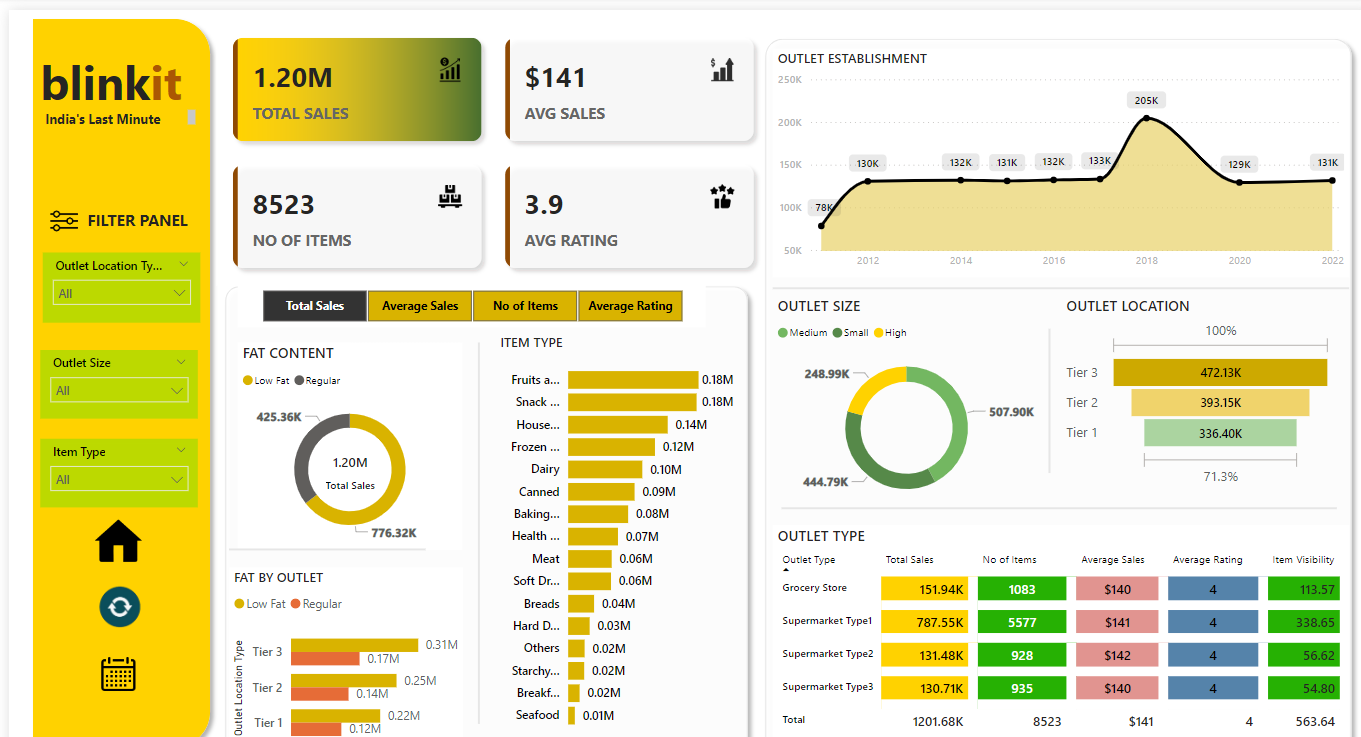

Layout of this report page (visuals, bound fields, positions):
{"tool":"powerbi","page":{"name":"Page 1","canvas":[1400,800],"ordinal":0},"visuals":[{"type":"shape","box":[15,0,200,765],"z":0},{"type":"textbox","box":[26.8,36.3,198.8,77.3],"z":1000},{"type":"textbox","box":[31.6,97.8,164.1,30],"z":2000},{"type":"cardVisual","fields":{"Data":["BlinkIT Grocery Data.Total Sales","BlinkIT Grocery Data.Average Sales","BlinkIT Grocery Data.No of Items","BlinkIT Grocery Data.Average Rating"]},"box":[213,11,569.7,271.4],"z":3000},{"type":"shape","box":[213,274.6,553.9,500.2],"z":4000},{"type":"donutChart","title":"FAT CONTENT","fields":{"Y":["BlinkIT Grocery Data.Total Sales"],"Category":["BlinkIT Grocery Data.Item Fat Content"]},"box":[235.1,340.9,230.4,213],"z":5000},{"type":"slicer","fields":{"Values":["Metrics.Metrics"]},"box":[235.1,280.9,479.7,45],"z":6000},{"type":"cardVisual","fields":{"Data":["BlinkIT Grocery Data.Total Sales"]},"box":[273,422.9,154.6,102.6],"z":7000},{"type":"clusteredBarChart","title":"FAT BY OUTLET","fields":{"Y":["BlinkIT Grocery Data.Total Sales"],"Category":["BlinkIT Grocery Data.Outlet Location Type"],"Series":["BlinkIT Grocery Data.Item Fat Content"]},"box":[225.7,571.2,239.9,194.1],"z":8000},{"type":"shape","box":[225.7,536.5,202,34.7],"z":9000},{"type":"shape","box":[465.5,340.9,33.1,391.3],"z":10000},{"type":"barChart","title":"ITEM TYPE","fields":{"Y":["BlinkIT Grocery Data.Total Sales"],"Category":["BlinkIT Grocery Data.Item Type"]},"box":[498.7,331.4,249.3,416.6],"z":11000},{"type":"shape","box":[766.8,20.1,619.3,754.7],"z":12000},{"type":"lineChart","title":"OUTLET ESTABLISHMENT","fields":{"Category":["BlinkIT Grocery Data.Outlet Establishment Year"],"Y":["BlinkIT Grocery Data.Total Sales"]},"box":[782.8,40.2,591.2,234.6],"z":13000},{"type":"shape","box":[782.8,268.1,591.2,34.9],"z":14000},{"type":"donutChart","title":"OUTLET SIZE","fields":{"Y":["BlinkIT Grocery Data.Total Sales"],"Category":["BlinkIT Grocery Data.Outlet Size"]},"box":[782.8,292.2,275,225],"z":15000},{"type":"shape","box":[1057.3,326.7,18.9,148.3],"z":16000},{"type":"funnel","title":"OUTLET LOCATION","fields":{"Y":["Sum(BlinkIT Grocery Data.Sales)"],"Category":["BlinkIT Grocery Data.Outlet Location Type"]},"box":[1079.1,292.2,282.8,201.1],"z":17000},{"type":"shape","box":[792.2,493.3,569.7,34.9],"z":18000},{"type":"pivotTable","title":"OUTLET TYPE","fields":{"Rows":["BlinkIT Grocery Data.Outlet Type"],"Values":["BlinkIT Grocery Data.Total Sales","BlinkIT Grocery Data.No of Items","BlinkIT Grocery Data.Average Sales","BlinkIT Grocery Data.Average Rating","Sum(BlinkIT Grocery Data.Item Visibility)"]},"box":[782.8,528.2,591.2,237.3],"z":19000},{"type":"slicer","fields":{"Values":["BlinkIT Grocery Data.Outlet Location Type"]},"box":[35,248.3,161.7,71.7],"z":19001},{"type":"slicer","fields":{"Values":["BlinkIT Grocery Data.Outlet Size"]},"box":[31.7,348.3,161.7,70],"z":19002},{"type":"slicer","fields":{"Values":["BlinkIT Grocery Data.Item Type"]},"box":[31.7,440,161.7,70],"z":19003},{"type":"textbox","box":[66.7,198.3,130,46.7],"z":19004},{"type":"image","box":[78.3,578.3,71.7,68.3],"z":19006},{"type":"image","box":[78.3,510,68.3,68.3],"z":19007},{"type":"image","box":[78.3,646.7,68.3,75],"z":19008},{"type":"image","box":[15,186.7,81.7,58.3],"z":19009}]}

Visuals, with their boxes on the page's 1400x800 design canvas (x1, y1, x2, y2). These are canvas units, not pixel positions in the 1361x737 screenshot, which may show the page scaled, cropped or inside an application window:
shape: {"left": 15, "top": 0, "right": 215, "bottom": 765}
textbox: {"left": 27, "top": 36, "right": 226, "bottom": 114}
textbox: {"left": 32, "top": 98, "right": 196, "bottom": 128}
cardVisual - BlinkIT Grocery Data.Total Sales x BlinkIT Grocery Data.Average Sales: {"left": 213, "top": 11, "right": 783, "bottom": 282}
shape: {"left": 213, "top": 275, "right": 767, "bottom": 775}
"FAT CONTENT" donutChart: {"left": 235, "top": 341, "right": 466, "bottom": 554}
slicer - Metrics.Metrics: {"left": 235, "top": 281, "right": 715, "bottom": 326}
cardVisual - BlinkIT Grocery Data.Total Sales: {"left": 273, "top": 423, "right": 428, "bottom": 526}
"FAT BY OUTLET" clusteredBarChart: {"left": 226, "top": 571, "right": 466, "bottom": 765}
shape: {"left": 226, "top": 536, "right": 428, "bottom": 571}
shape: {"left": 466, "top": 341, "right": 499, "bottom": 732}
"ITEM TYPE" barChart: {"left": 499, "top": 331, "right": 748, "bottom": 748}
shape: {"left": 767, "top": 20, "right": 1386, "bottom": 775}
"OUTLET ESTABLISHMENT" lineChart: {"left": 783, "top": 40, "right": 1374, "bottom": 275}
shape: {"left": 783, "top": 268, "right": 1374, "bottom": 303}
"OUTLET SIZE" donutChart: {"left": 783, "top": 292, "right": 1058, "bottom": 517}
shape: {"left": 1057, "top": 327, "right": 1076, "bottom": 475}
"OUTLET LOCATION" funnel: {"left": 1079, "top": 292, "right": 1362, "bottom": 493}
shape: {"left": 792, "top": 493, "right": 1362, "bottom": 528}
"OUTLET TYPE" pivotTable: {"left": 783, "top": 528, "right": 1374, "bottom": 766}
slicer - BlinkIT Grocery Data.Outlet Location Type: {"left": 35, "top": 248, "right": 197, "bottom": 320}
slicer - BlinkIT Grocery Data.Outlet Size: {"left": 32, "top": 348, "right": 193, "bottom": 418}
slicer - BlinkIT Grocery Data.Item Type: {"left": 32, "top": 440, "right": 193, "bottom": 510}
textbox: {"left": 67, "top": 198, "right": 197, "bottom": 245}
image: {"left": 78, "top": 578, "right": 150, "bottom": 647}
image: {"left": 78, "top": 510, "right": 147, "bottom": 578}
image: {"left": 78, "top": 647, "right": 147, "bottom": 722}
image: {"left": 15, "top": 187, "right": 97, "bottom": 245}
